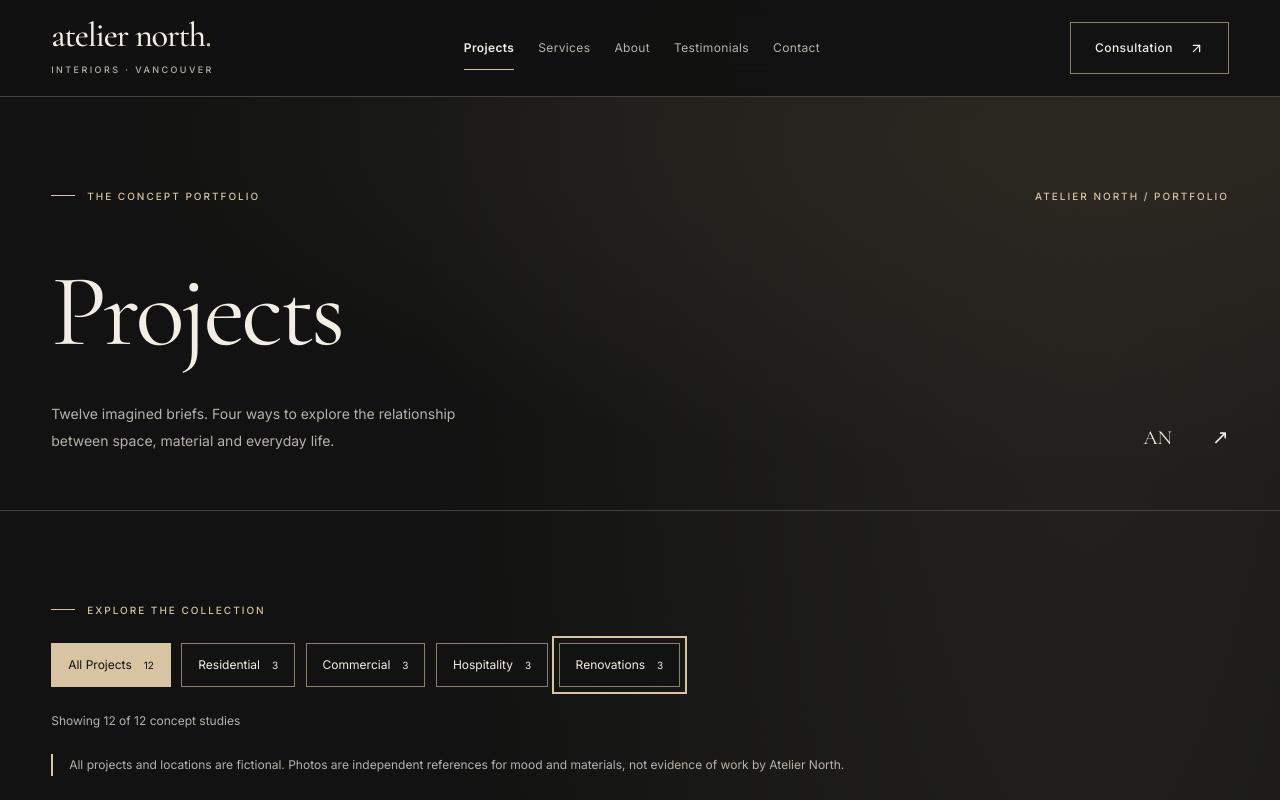
Test: project category filters › selects Renovations with the right cards, count and active state
The image size is (1280, 800).
Expected: the heading "Projects" is shown, [51,249,342,373]
Click the button "Renovations 3".
click(619, 665)  # box [559,643,680,687]
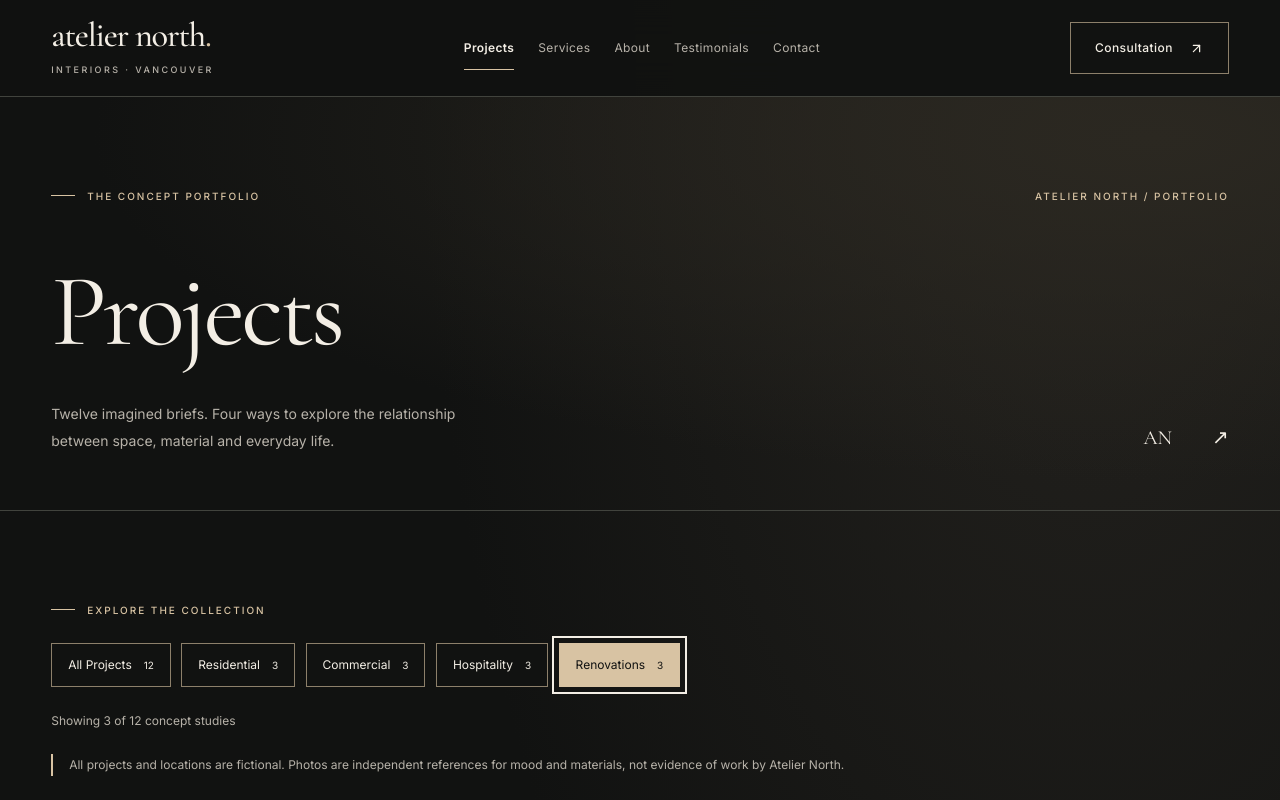
Now the message shows "Showing 3 of 12", box [51,713,236,728]
Click the button "All Projects 12".
click(111, 665)  # box [51,643,171,687]
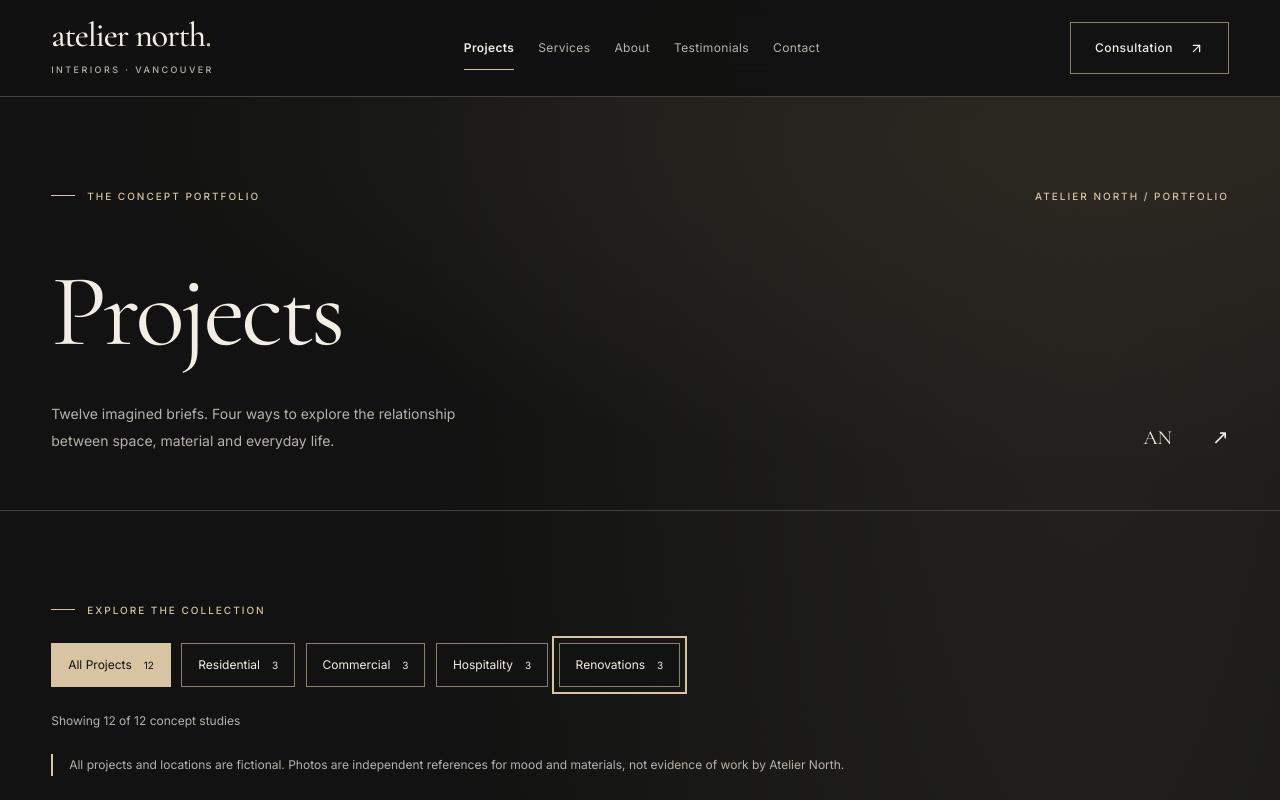
Now the message shows "Showing 12 of 12", box [51,713,240,728]
